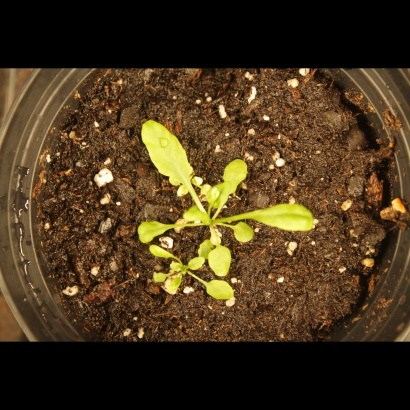leaf: (141, 115, 195, 198), (253, 200, 320, 236), (220, 150, 250, 205), (131, 213, 177, 245), (206, 240, 235, 281), (200, 277, 240, 303), (227, 220, 257, 246), (181, 206, 213, 230), (149, 240, 176, 263), (146, 267, 169, 292), (185, 255, 208, 278), (169, 274, 192, 297), (190, 235, 213, 258), (200, 180, 223, 203)
